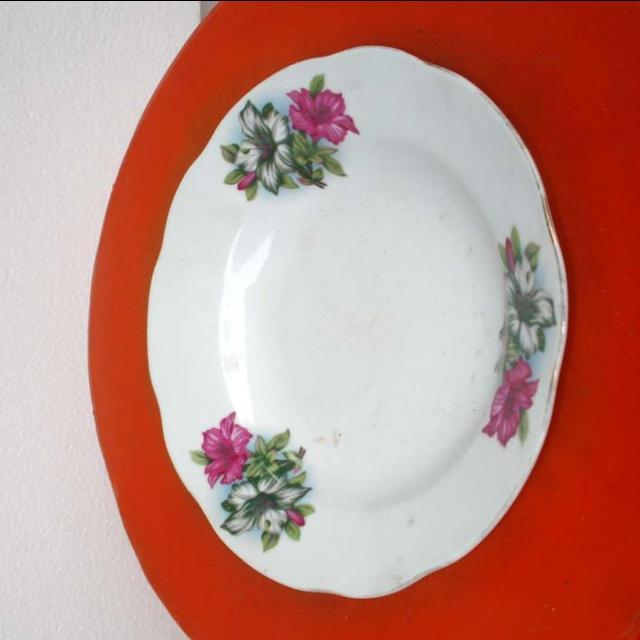plate: (120, 39, 578, 598), (334, 177, 640, 465)
